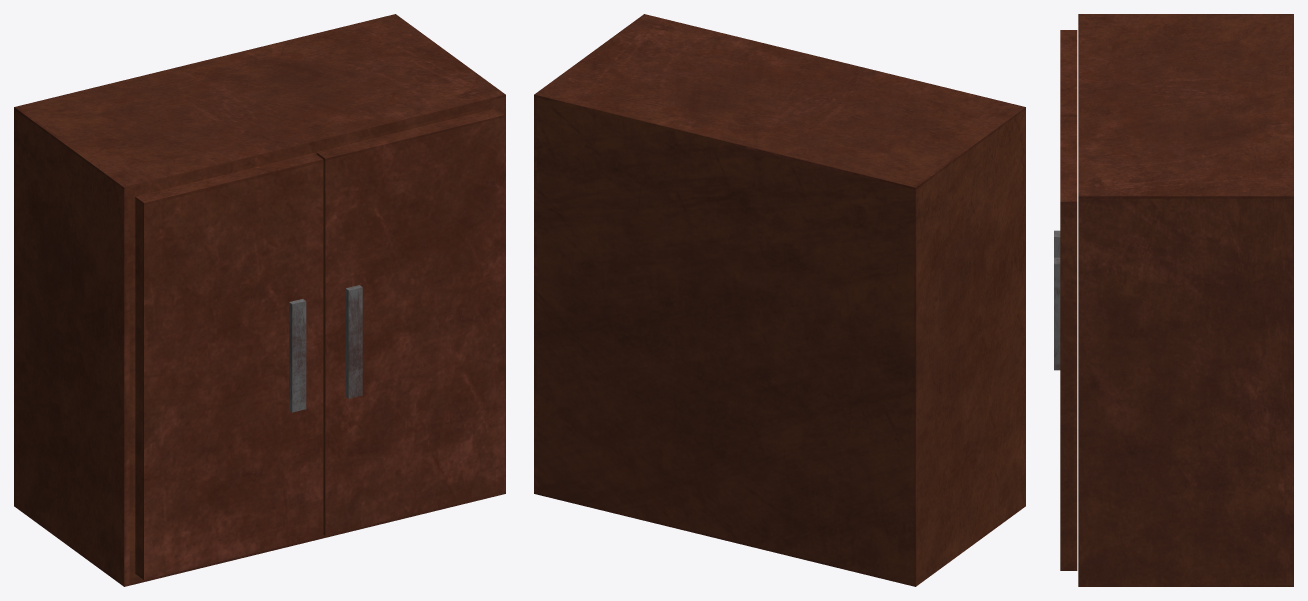
Rendered from armario.glb.
The picture shows the model from 3 angles, left to right: view 1: azimuth 30°, elevation 25°; view 2: azimuth 150°, elevation 25°; view 3: azimuth 270°, elevation 25°; orthographic projection. The views are drawn at different scales.
Parts seen in each view (by area): view 1: Cube.009; view 2: Cube.009; view 3: Cube.009.
Boxes of the visible parts, x1=… form: Cube.009: x1=14, y1=14, x2=505, y2=586; Cube.009: x1=534, y1=14, x2=1025, y2=586; Cube.009: x1=1054, y1=14, x2=1293, y2=586.
Size of the model in its own units: 2 by 2 by 1.11.
Materials: 1 (1 with a texture image).
